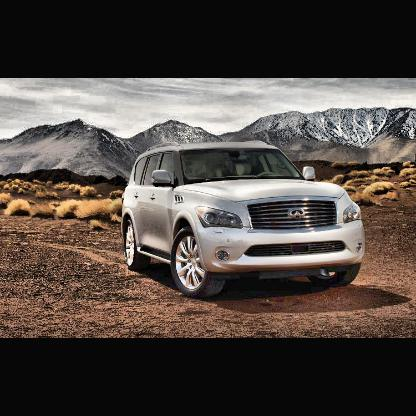Infiniti QX56 SUV 2011: (120, 139, 367, 301)
